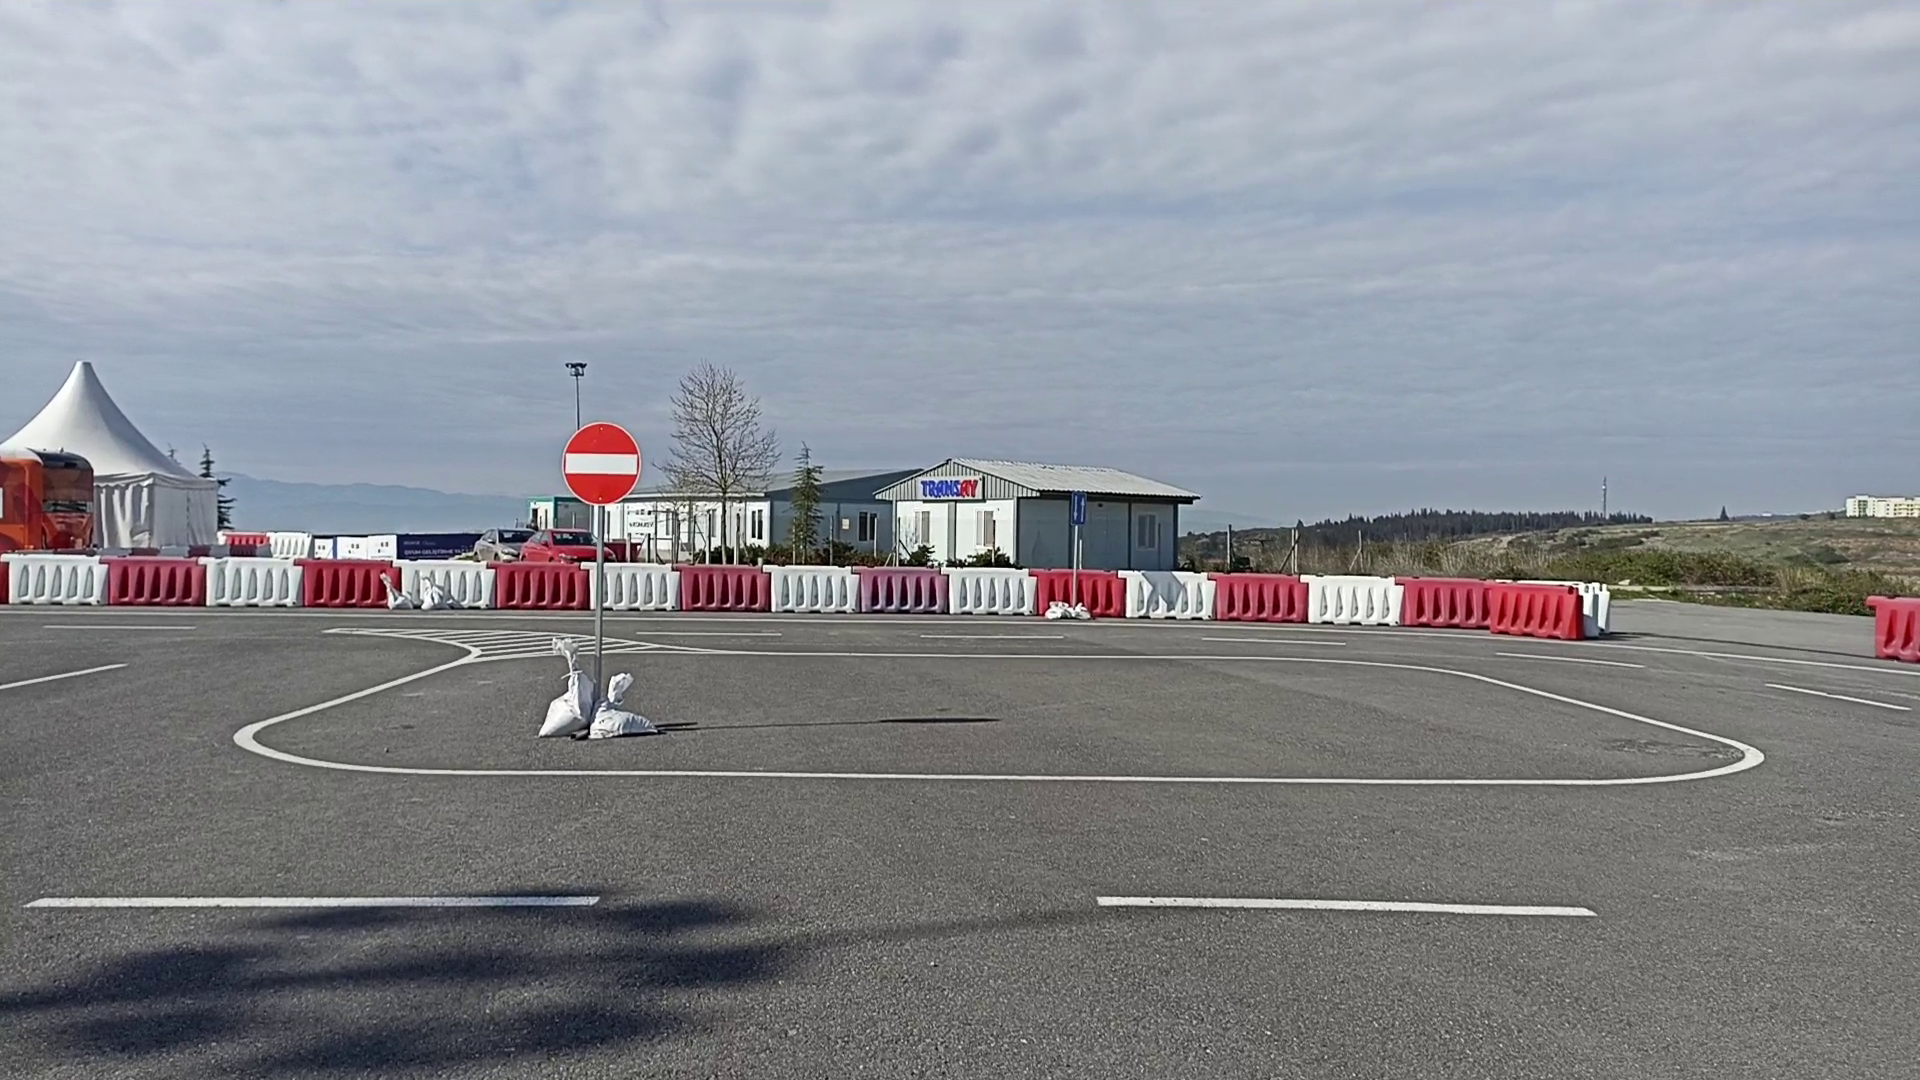noentryway: (560, 421, 644, 508)
